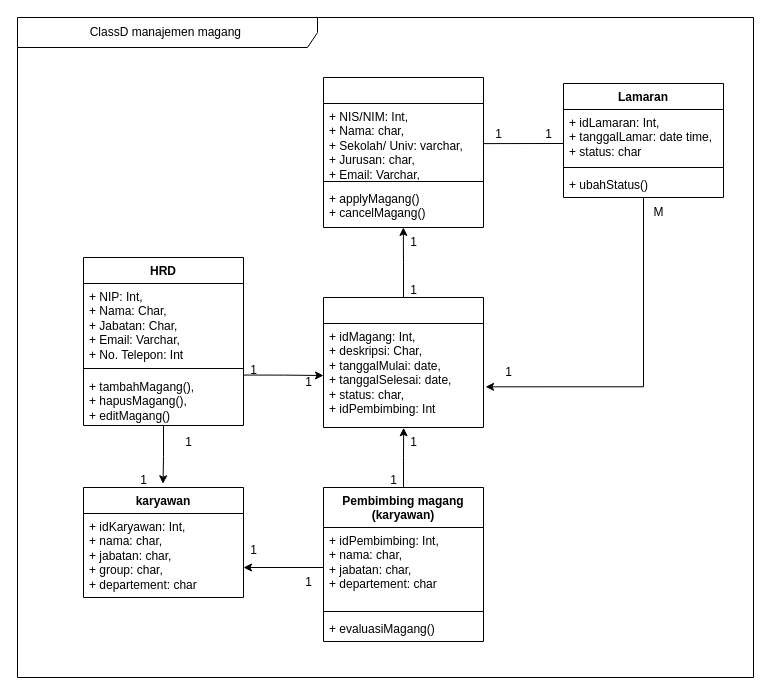
This 771x695 diagram has some shape labels left out. Each missing label, with the box of its shape:
Acara Magang: (322, 296, 484, 428)
Siswa/ Mahasiswa: (322, 76, 484, 228)
